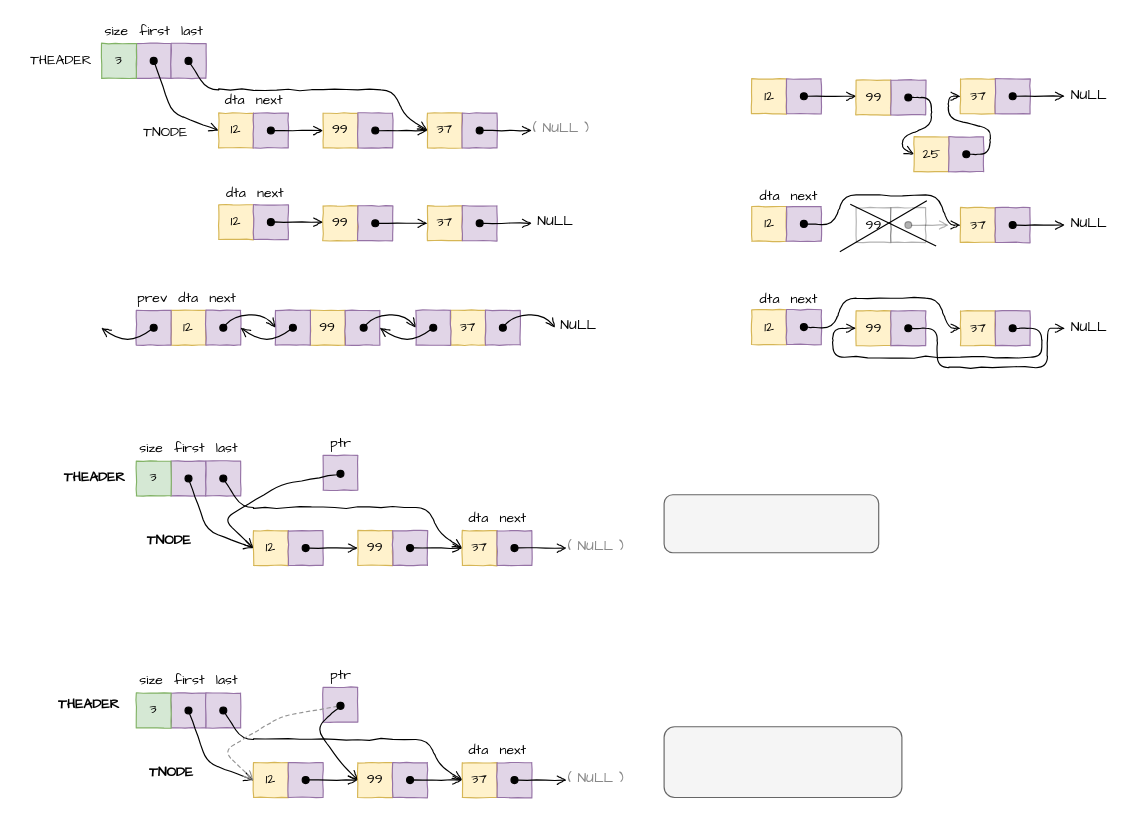
Some shapes in this 1137 by 818 pixel diagram are drawn without their labels. The shapes that lost their labels are listed below. From the top down, each one's box as (x1, y1, x2, y2) in pixels, then its label:
(663, 494, 879, 553): TNODE *ptr = hdr.first; // ptr->dta = 12
(663, 726, 902, 798): *ptr = ptr->next; // ptr->dta = 99
